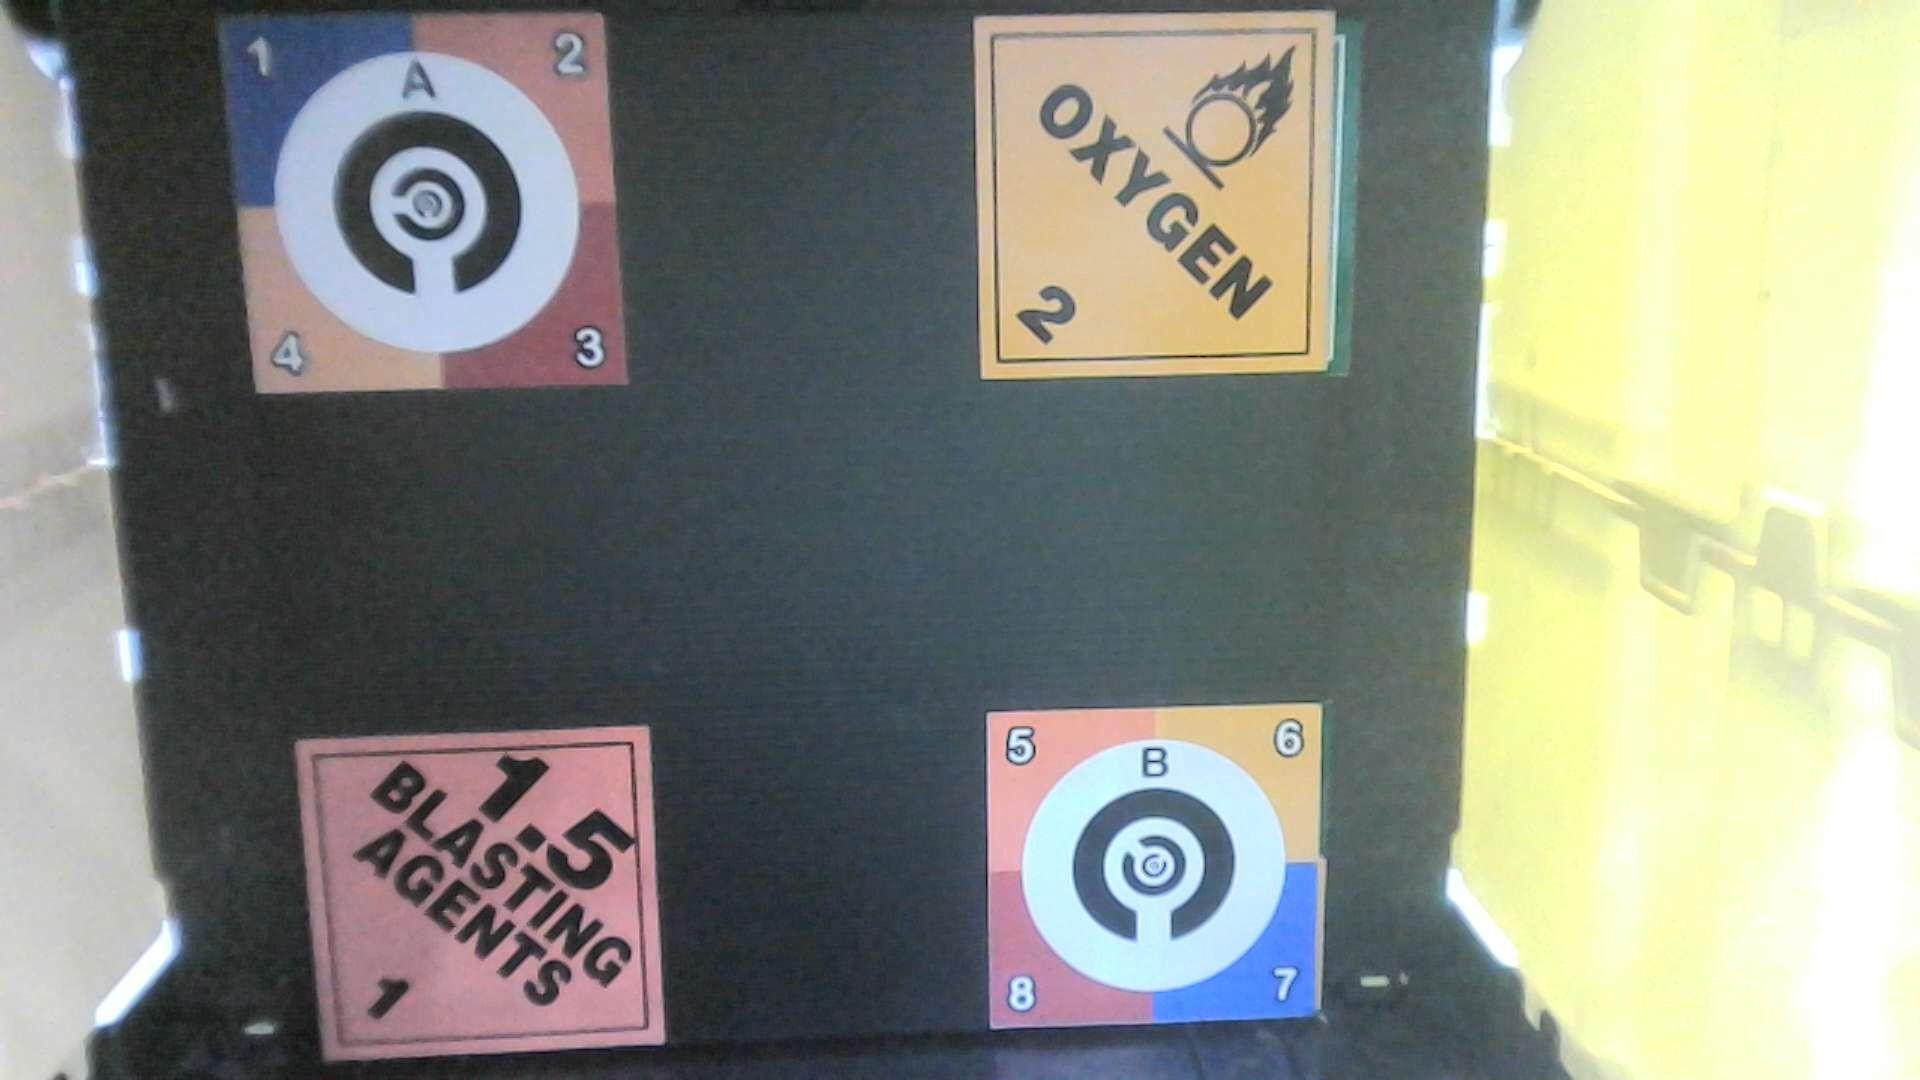explosive: (291, 723, 670, 1076)
oxidizer: (978, 22, 1342, 363)
